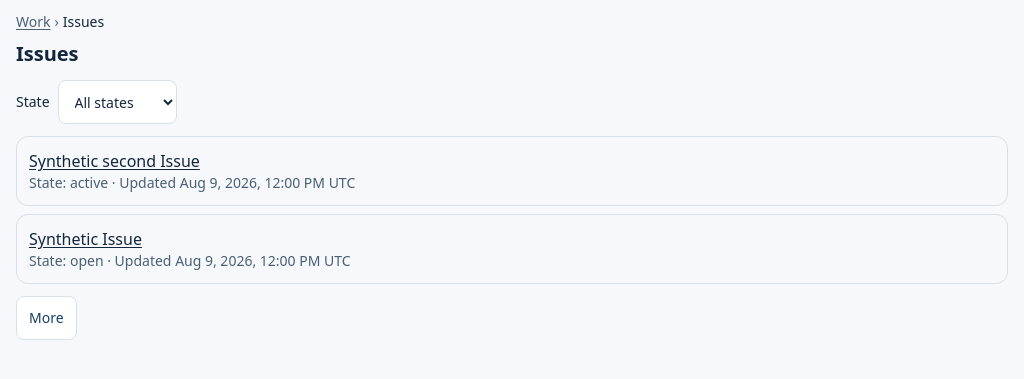
IssueList › lists Issues linking to their views and pages with More
This screenshot has width=1024, height=379.
Click the button "More": [46, 318] box [16,296,77,340]
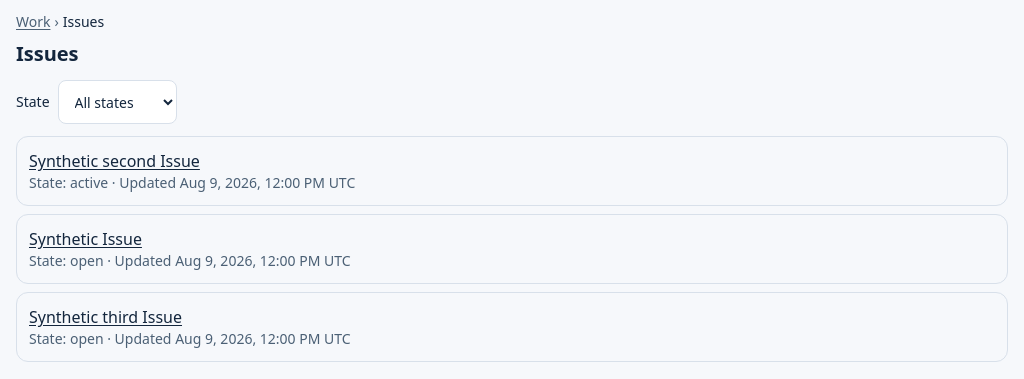
Expected: the link "Synthetic third Issue" is shown, [29,306,182,328]
